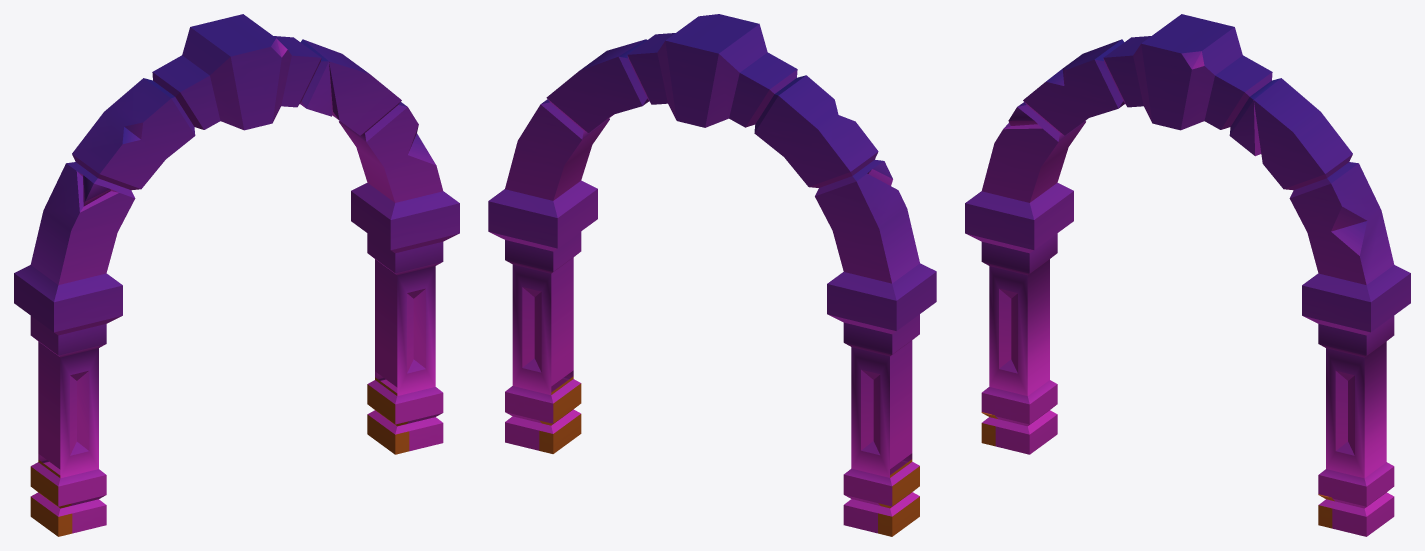
File: Gate_Biomas.fbx
3 views of the same model, side by side, from view 1: azimuth 30°, elevation 25°; view 2: azimuth 150°, elevation 25°; view 3: azimuth 330°, elevation 25° (orthographic).
Parts seen in each view (by area): view 1: Arch_Bioma1, Arch_Bioma2; view 2: Arch_Bioma1, Arch_Bioma2; view 3: Arch_Bioma1, Arch_Bioma2.
Boxes of the visible parts, x1,y1,x2,y2 form: Arch_Bioma1: (14,14,459,533); Arch_Bioma2: (30,377,409,536); Arch_Bioma1: (488,14,936,533); Arch_Bioma2: (539,376,919,536); Arch_Bioma1: (965,14,1410,536); Arch_Bioma2: (981,412,1334,528).
Bounding box in the file's own units: 76.99 × 422 × 441.
3 materials, 3 textured.
